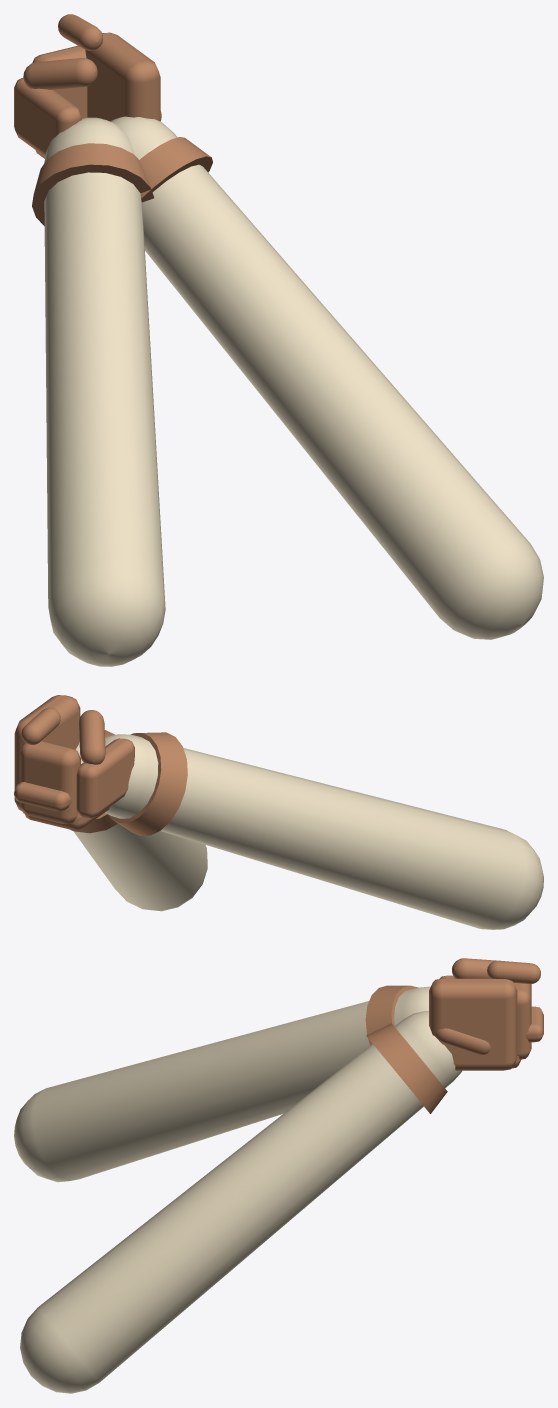
The model's file is scroll.glb.
3 views of the same model, one above another, from view 1: azimuth 30°, elevation 25°; view 2: azimuth 150°, elevation 25°; view 3: azimuth 270°, elevation 25° (orthographic). The views are drawn at different scales.
Visible parts, largest first — view 1: forearm_R, forearm_L, palm_R, cuff_L, fingers_L, cuff_R, thumb_R, trigger_finger_R, fingers_R; view 2: forearm_L, forearm_R, cuff_L, fingers_R, fingers_L, palm_R, thumb_R, knuckles_R, trigger_finger_R, cuff_R, palm_L; view 3: forearm_R, forearm_L, palm_R, cuff_R, cuff_L, fingers_R, trigger_finger_R, thumb_L, thumb_R.
Boxes of the visible parts, x1,y1,x2,y2 form: forearm_R: (110, 116, 543, 639); forearm_L: (44, 117, 165, 666); palm_R: (85, 32, 160, 121); cuff_L: (32, 143, 154, 225); fingers_L: (14, 78, 81, 156); cuff_R: (139, 137, 212, 202); thumb_R: (23, 58, 97, 89); trigger_finger_R: (58, 14, 103, 50); fingers_R: (32, 45, 87, 118); forearm_L: (105, 734, 543, 929); forearm_R: (73, 742, 207, 911); cuff_L: (108, 732, 187, 835); fingers_R: (19, 741, 80, 824); fingers_L: (76, 738, 134, 818); palm_R: (14, 695, 80, 811); thumb_R: (79, 710, 105, 764); knuckles_R: (14, 782, 71, 811); trigger_finger_R: (21, 707, 60, 744); cuff_R: (70, 730, 117, 833); palm_L: (25, 807, 109, 829); forearm_R: (20, 1011, 461, 1393); forearm_L: (14, 986, 430, 1182); palm_R: (429, 978, 517, 1070); cuff_R: (366, 1023, 447, 1113); cuff_L: (365, 985, 418, 1045); fingers_R: (514, 983, 531, 1059); trigger_finger_R: (487, 960, 540, 983); thumb_L: (435, 1028, 490, 1054); thumb_R: (452, 958, 495, 978).
Bounding box in the file's own units: 0.4161 × 0.3715 × 0.4788.
